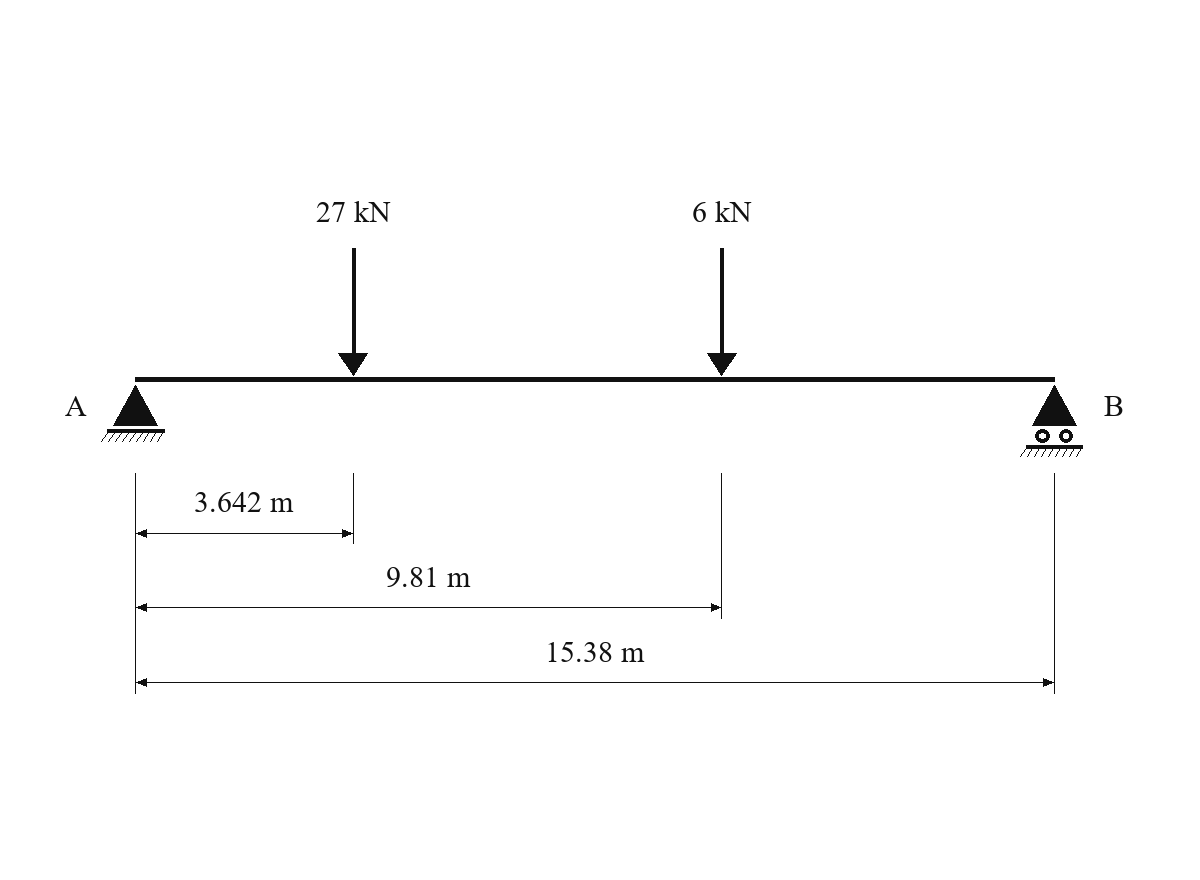pin_support: (101, 385, 165, 442)
point_load: (338, 248, 368, 376), (707, 248, 737, 376)
roller_support: (1020, 385, 1083, 457)
